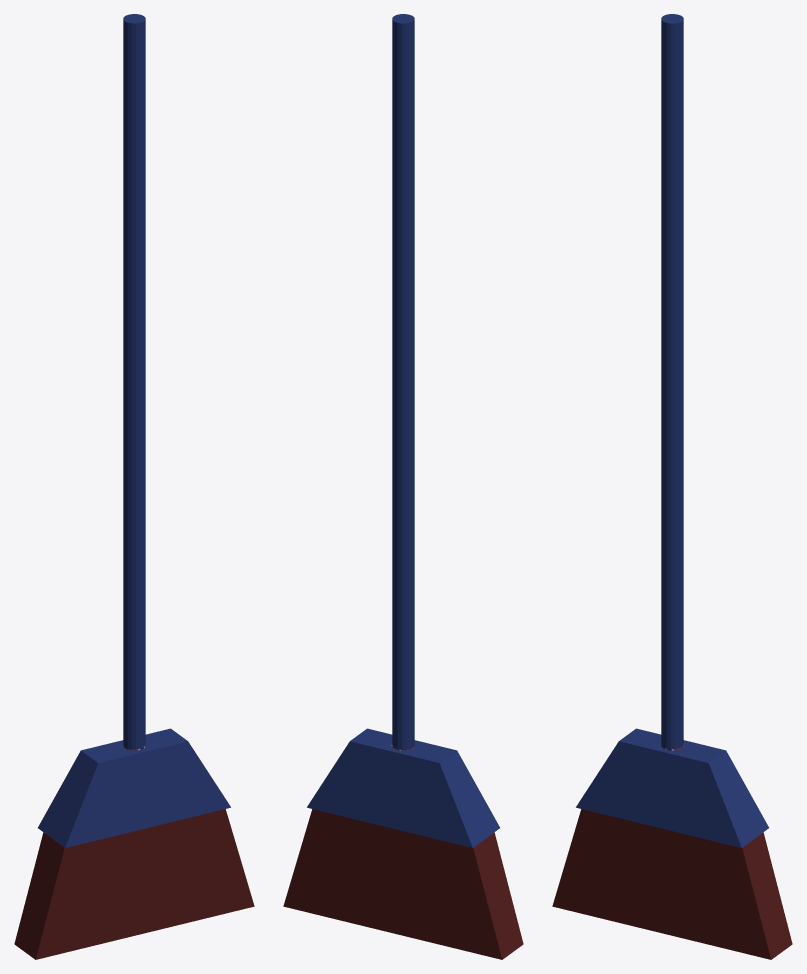
The model's file is Vassoura.fbx.
3 renders of one model, left to right at view 1: azimuth 30°, elevation 25°; view 2: azimuth 150°, elevation 25°; view 3: azimuth 330°, elevation 25°, orthographic.
Parts seen in each view (by area): view 1: Vassoura; view 2: Vassoura; view 3: Vassoura.
Part boxes in pixels (x1,y1,x2,y2): Vassoura: (14,14,254,959); Vassoura: (283,14,523,959); Vassoura: (552,14,792,959).
Size of the model in its own units: 126 by 498 by 27.37.
